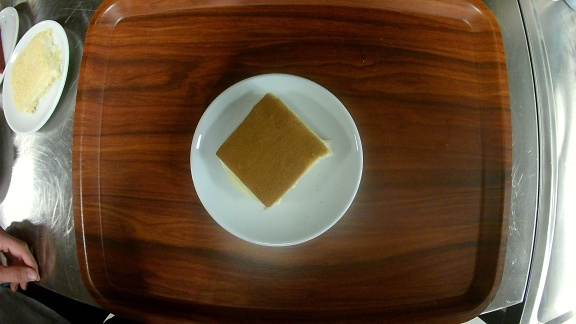tiramisu: (189, 73, 364, 245)
